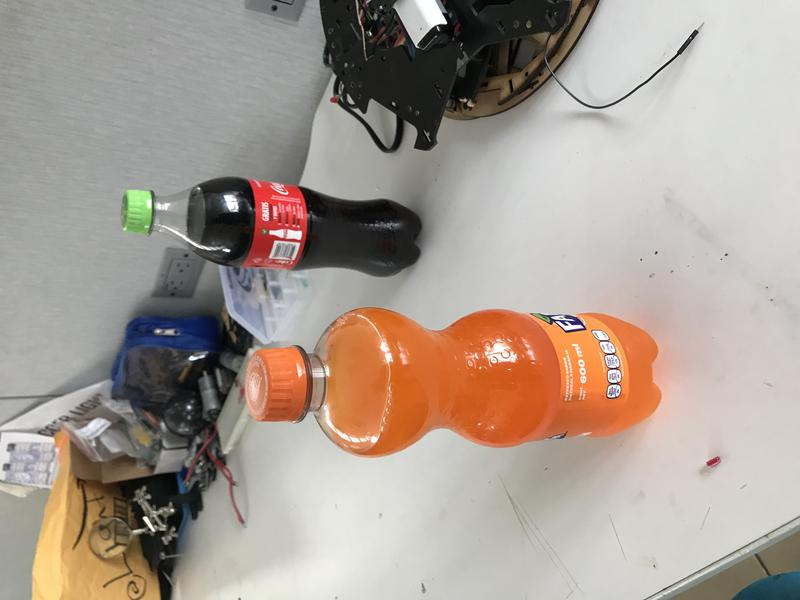coca_cola: (118, 176, 423, 281)
fanta: (243, 304, 664, 458)
